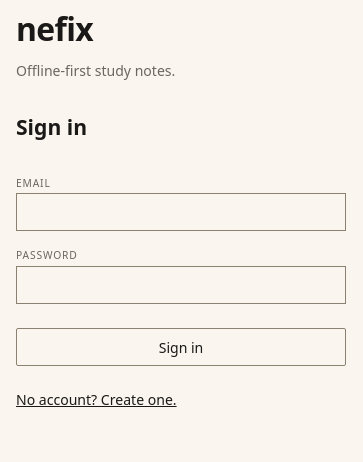
Scenario: App auth wall › rejects a short password without reaching the server
The image size is (363, 462).
Expected: the button "Sign in" is shown, left=16, top=328, right=346, bottom=366
Type "jozef@example.sk" into the field labelled "Email" at {"x": 181, "y": 212}, box left=16, top=193, right=346, bottom=231
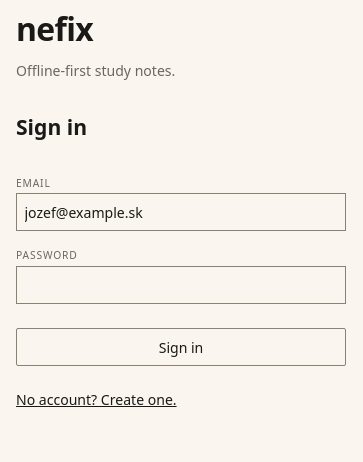
Type "short" into the password field labelled "Password" at {"x": 181, "y": 285}, box left=16, top=266, right=346, bottom=304
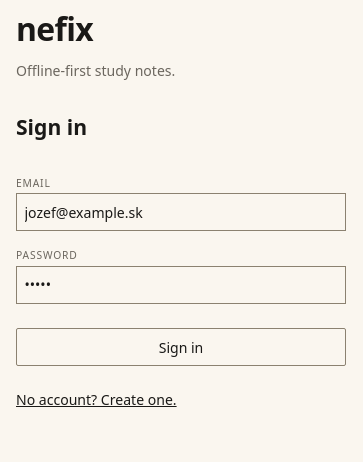
Click the button "Sign in" at {"x": 181, "y": 347}, box left=16, top=328, right=346, bottom=366
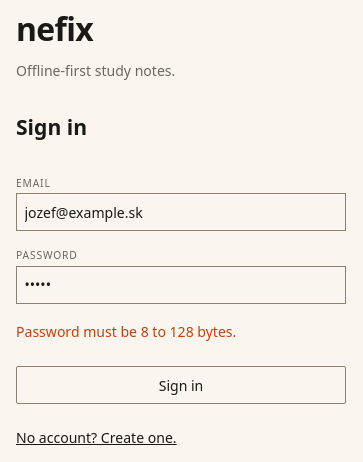
Result: the text "Password must be 8 to 128 bytes." is shown at left=16, top=322, right=236, bottom=341
